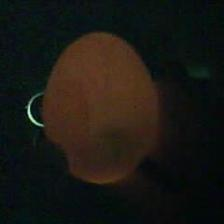fertile: (40, 32, 161, 186)
